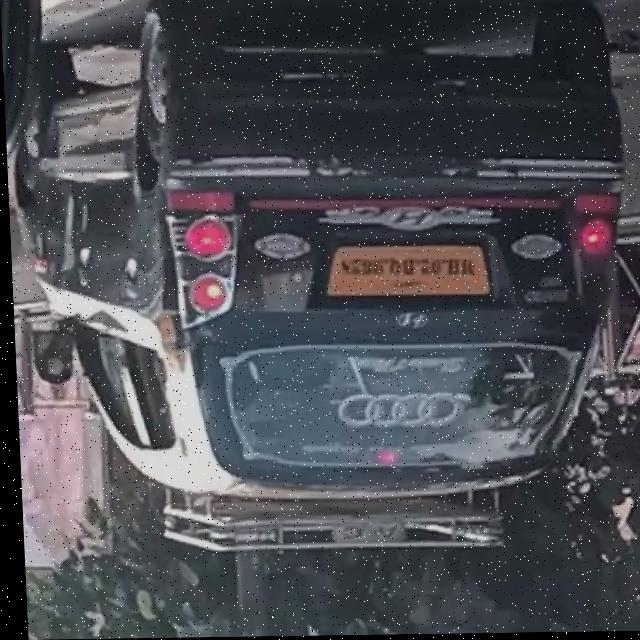plate: (319, 242, 489, 299)
